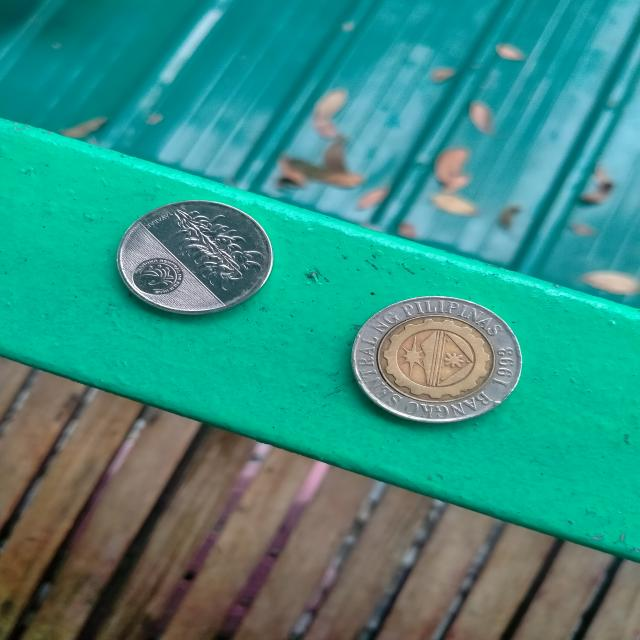10_Old_Back: (352, 301, 518, 425)
5_New_Back: (162, 208, 261, 283)
